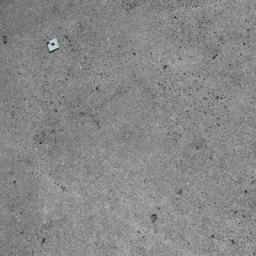FOD: (45, 36, 61, 55)
